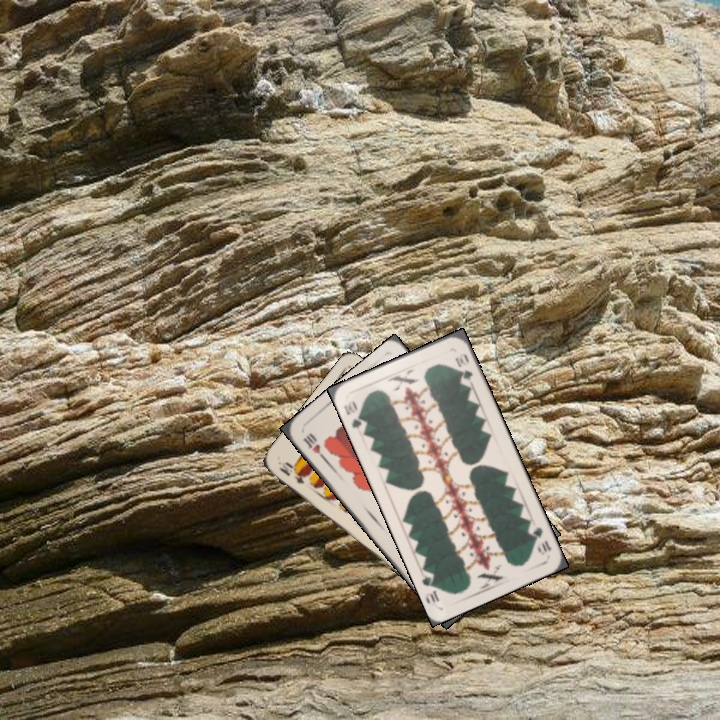E10: (274, 458, 309, 486)
G10: (339, 398, 369, 433), (527, 523, 555, 558)
H10: (299, 429, 329, 463)
